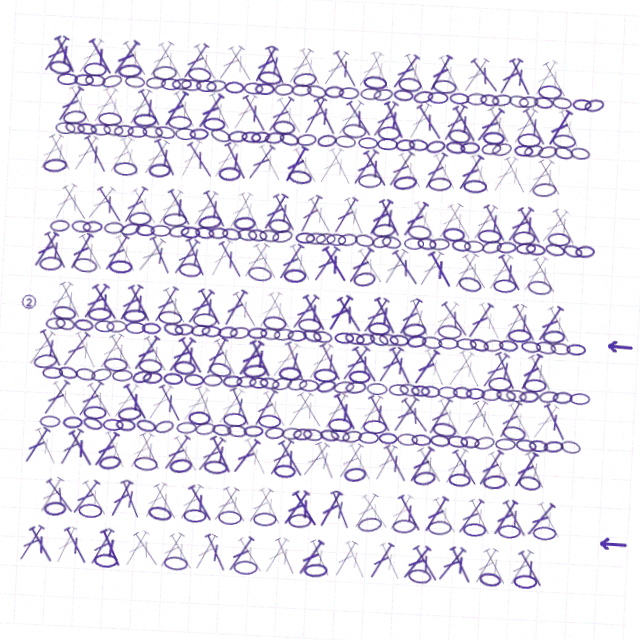chain: (280, 72, 306, 90), (52, 121, 78, 139), (385, 170, 411, 188), (192, 219, 218, 237), (455, 268, 481, 286), (35, 366, 61, 384), (367, 513, 393, 531), (350, 268, 375, 286), (210, 366, 235, 384), (105, 464, 130, 482), (420, 464, 445, 482), (280, 170, 305, 187), (367, 219, 392, 236), (402, 317, 427, 334), (245, 366, 270, 383), (122, 415, 147, 432), (437, 415, 462, 432), (507, 415, 532, 432), (525, 464, 550, 481), (157, 513, 182, 530), (89, 83, 112, 101), (200, 132, 223, 150), (438, 121, 462, 138), (176, 464, 200, 481), (351, 464, 375, 481), (105, 73, 130, 89), (140, 73, 165, 89), (175, 73, 200, 89), (245, 73, 270, 89), (420, 73, 445, 89), (35, 171, 60, 187), (525, 171, 550, 187), (70, 269, 95, 285), (245, 269, 270, 285), (525, 269, 550, 285), (52, 318, 77, 334), (490, 465, 515, 481), (402, 514, 427, 530), (420, 563, 445, 579), (115, 230, 137, 248), (319, 377, 341, 395), (267, 230, 290, 247), (93, 377, 116, 394), (479, 426, 502, 443), (36, 73, 60, 89), (123, 220, 147, 236), (263, 220, 287, 236), (36, 269, 60, 285), (491, 563, 515, 579), (87, 318, 112, 333), (122, 318, 147, 333), (482, 132, 504, 149), (514, 132, 536, 149), (367, 230, 389, 247), (477, 230, 499, 247), (302, 328, 324, 345), (369, 328, 391, 345), (134, 377, 156, 394), (274, 377, 296, 394), (159, 426, 181, 443), (336, 378, 359, 394), (351, 73, 375, 88), (386, 73, 410, 88), (123, 122, 147, 137), (333, 122, 357, 137), (543, 122, 567, 137), (351, 171, 375, 186), (421, 171, 445, 186), (158, 220, 182, 235), (228, 220, 252, 235), (403, 220, 427, 235), (158, 318, 182, 333), (263, 318, 287, 333), (438, 318, 462, 333), (141, 367, 165, 382), (141, 465, 165, 480), (211, 465, 235, 480), (53, 514, 77, 529), (298, 514, 322, 529), (438, 514, 462, 529), (176, 563, 200, 578), (316, 563, 340, 578), (294, 84, 316, 100), (361, 84, 383, 100), (401, 84, 423, 100), (572, 84, 594, 100), (269, 133, 291, 149), (416, 133, 438, 149), (528, 133, 550, 149), (544, 133, 566, 149), (558, 231, 580, 247), (469, 329, 491, 345), (87, 427, 109, 443), (347, 427, 369, 443), (263, 122, 286, 137), (141, 171, 164, 186), (211, 171, 234, 186), (176, 269, 199, 284), (543, 318, 566, 333), (176, 367, 199, 382), (71, 74, 95, 88), (526, 74, 550, 88), (88, 123, 112, 137), (158, 123, 182, 137), (508, 123, 532, 137), (106, 172, 130, 186), (456, 172, 480, 186), (473, 221, 497, 235), (106, 270, 130, 284), (491, 270, 515, 284), (193, 319, 217, 333), (298, 319, 322, 333), (508, 319, 532, 333), (106, 368, 130, 382), (316, 368, 340, 382), (491, 368, 515, 382), (526, 368, 550, 382), (88, 417, 112, 431), (228, 417, 252, 431), (333, 417, 357, 431), (368, 417, 392, 431), (88, 515, 112, 529), (193, 515, 217, 529), (228, 515, 252, 529), (263, 515, 287, 529), (473, 515, 497, 529), (543, 515, 567, 529), (106, 564, 130, 578), (246, 564, 270, 578), (526, 564, 550, 578), (145, 133, 167, 148), (307, 133, 329, 148), (164, 231, 186, 246), (540, 231, 562, 246), (163, 329, 185, 344), (536, 329, 558, 344), (60, 378, 82, 393), (348, 378, 370, 393), (402, 378, 424, 393), (200, 427, 222, 442), (335, 427, 357, 442), (193, 123, 216, 137), (368, 123, 391, 137), (473, 123, 496, 137), (438, 221, 461, 235), (508, 221, 531, 235), (543, 221, 566, 235), (281, 270, 304, 284), (368, 319, 391, 333), (281, 368, 304, 382), (351, 368, 374, 382), (193, 417, 216, 431), (263, 417, 286, 431), (281, 466, 304, 480), (456, 466, 479, 480), (508, 515, 531, 529), (194, 84, 215, 99), (480, 84, 501, 99), (55, 133, 76, 148), (241, 133, 262, 148), (255, 133, 276, 148), (472, 133, 493, 148), (333, 231, 354, 246), (350, 231, 371, 246), (55, 329, 76, 344), (191, 329, 212, 344), (274, 329, 295, 344), (379, 329, 400, 344), (407, 329, 428, 344), (290, 378, 311, 393), (542, 378, 563, 393), (141, 427, 162, 442), (566, 427, 587, 442), (301, 232, 323, 246), (422, 330, 444, 344), (484, 379, 506, 393), (509, 379, 531, 393), (521, 428, 543, 442), (468, 85, 489, 99), (497, 85, 518, 99), (507, 85, 528, 99), (522, 85, 543, 99), (67, 134, 88, 148), (104, 134, 125, 148), (218, 134, 239, 148), (287, 134, 308, 148), (386, 134, 407, 148), (436, 134, 457, 148), (561, 134, 582, 148), (45, 232, 66, 246), (190, 232, 211, 246), (217, 232, 238, 246), (311, 232, 332, 246), (377, 232, 398, 246), (521, 232, 542, 246), (74, 330, 95, 344), (218, 330, 239, 344), (230, 330, 251, 344), (313, 330, 334, 344), (345, 330, 366, 344), (356, 330, 377, 344), (484, 330, 505, 344), (551, 330, 572, 344), (78, 379, 99, 393), (145, 379, 166, 393), (262, 379, 283, 393), (499, 379, 520, 393), (522, 379, 543, 393), (217, 428, 238, 442), (232, 428, 253, 442), (270, 428, 291, 442), (287, 428, 308, 442), (298, 428, 319, 442), (308, 428, 329, 442), (325, 428, 346, 442), (534, 428, 555, 442), (549, 428, 570, 442), (326, 134, 348, 147), (262, 85, 283, 98), (349, 85, 370, 98), (455, 85, 476, 98), (133, 134, 154, 147), (399, 134, 420, 147), (99, 232, 120, 245), (243, 232, 264, 245), (425, 232, 446, 245), (447, 232, 468, 245), (492, 232, 513, 245), (499, 330, 520, 343), (115, 379, 136, 392), (225, 379, 246, 392), (239, 379, 260, 392), (453, 428, 474, 441), (113, 85, 133, 98), (134, 85, 154, 98), (160, 85, 180, 98), (280, 85, 300, 98), (313, 85, 333, 98), (382, 85, 402, 98), (541, 85, 561, 98), (94, 134, 114, 147), (180, 134, 200, 147), (451, 134, 471, 147), (67, 232, 87, 245), (78, 232, 98, 245), (204, 232, 224, 245), (233, 232, 253, 245), (255, 232, 275, 245), (413, 232, 433, 245), (512, 232, 532, 245), (571, 232, 591, 245), (46, 330, 66, 343), (107, 330, 127, 343), (175, 330, 195, 343), (248, 330, 268, 343), (261, 330, 281, 343), (390, 330, 410, 343), (522, 330, 542, 343), (206, 379, 226, 392), (456, 379, 476, 392), (556, 379, 576, 392), (68, 428, 88, 441), (121, 428, 141, 441), (182, 428, 202, 441), (249, 428, 269, 441), (436, 428, 456, 441), (466, 428, 486, 441), (45, 86, 66, 98), (73, 86, 94, 98), (169, 86, 190, 98), (184, 86, 205, 98), (327, 86, 348, 98), (416, 86, 437, 98), (81, 135, 102, 147), (166, 135, 187, 147), (368, 135, 389, 147), (146, 233, 167, 245), (439, 331, 460, 343), (457, 331, 478, 343), (45, 380, 66, 392), (370, 380, 391, 392), (573, 380, 594, 392), (45, 429, 66, 441), (108, 429, 129, 441), (364, 429, 385, 441), (403, 429, 424, 441), (501, 429, 522, 441), (62, 86, 82, 98), (149, 86, 169, 98), (213, 86, 233, 98), (232, 86, 252, 98), (243, 86, 263, 98), (438, 86, 458, 98), (561, 86, 581, 98), (46, 135, 66, 147), (118, 135, 138, 147), (232, 135, 252, 147), (349, 135, 369, 147), (505, 135, 525, 147), (131, 233, 151, 245), (176, 233, 196, 245), (291, 233, 311, 245), (322, 233, 342, 245), (400, 233, 420, 245), (460, 233, 480, 245), (95, 331, 115, 343), (126, 331, 146, 343), (142, 331, 162, 343), (202, 331, 222, 343), (288, 331, 308, 343), (335, 331, 355, 343), (567, 331, 587, 343), (166, 380, 186, 392), (187, 380, 207, 392), (252, 380, 272, 392), (302, 380, 322, 392), (392, 380, 412, 392), (414, 380, 434, 392), (424, 380, 444, 392), (441, 380, 461, 392), (469, 380, 489, 392), (384, 429, 404, 441), (417, 429, 437, 441)
double: (455, 48, 490, 87), (52, 489, 87, 528), (131, 244, 165, 284), (183, 391, 217, 431), (298, 489, 332, 529), (323, 96, 356, 137), (316, 243, 349, 284), (298, 390, 331, 431), (421, 439, 454, 480), (78, 195, 112, 234), (351, 244, 385, 283), (386, 244, 420, 283), (438, 293, 472, 332), (403, 391, 437, 430), (368, 489, 402, 528), (533, 489, 567, 528), (141, 538, 175, 577), (411, 538, 445, 577), (446, 538, 480, 577), (106, 48, 139, 88), (376, 48, 409, 88), (263, 97, 296, 137), (333, 97, 366, 137), (403, 97, 436, 137), (463, 97, 496, 137), (176, 146, 209, 186), (53, 195, 86, 235), (88, 195, 121, 235), (123, 195, 156, 235), (533, 195, 566, 235), (456, 244, 489, 284), (88, 293, 121, 333), (183, 293, 216, 333), (288, 293, 321, 333), (333, 293, 366, 333), (61, 342, 94, 382), (271, 342, 304, 382), (341, 342, 374, 382), (351, 342, 384, 382), (481, 342, 514, 382), (53, 391, 86, 431), (88, 391, 121, 431), (201, 440, 234, 480), (236, 440, 269, 480), (306, 440, 339, 480), (456, 440, 489, 480), (78, 489, 111, 529), (88, 489, 121, 529), (246, 538, 279, 578), (509, 96, 541, 137), (377, 145, 409, 186), (72, 243, 104, 284), (422, 243, 454, 284), (527, 341, 559, 382), (394, 390, 426, 431), (27, 439, 59, 480), (387, 439, 419, 480), (509, 488, 541, 529), (72, 48, 104, 88), (97, 48, 129, 88), (142, 48, 174, 88), (177, 48, 209, 88), (202, 48, 234, 88), (212, 48, 244, 88), (307, 48, 339, 88), (317, 48, 349, 88), (447, 48, 479, 88), (527, 48, 559, 88), (184, 97, 216, 137), (254, 97, 286, 137), (439, 97, 471, 137), (132, 146, 164, 186), (237, 146, 269, 186), (282, 146, 314, 186), (352, 146, 384, 186), (387, 146, 419, 186), (517, 146, 549, 186), (299, 195, 331, 235), (394, 195, 426, 235), (439, 195, 471, 235), (499, 195, 531, 235), (509, 195, 541, 235), (167, 244, 199, 284), (212, 244, 244, 284), (237, 244, 269, 284), (247, 244, 279, 284), (307, 244, 339, 284), (79, 293, 111, 333), (229, 293, 261, 333), (359, 293, 391, 333), (429, 293, 461, 333), (27, 342, 59, 382), (107, 342, 139, 382), (132, 342, 164, 382), (142, 342, 174, 382), (167, 342, 199, 382), (177, 342, 209, 382), (412, 342, 444, 382), (447, 342, 479, 382), (44, 391, 76, 431), (114, 391, 146, 431), (124, 391, 156, 431), (219, 391, 251, 431), (509, 391, 541, 431), (534, 391, 566, 431), (72, 440, 104, 480), (167, 440, 199, 480), (177, 440, 209, 480), (282, 440, 314, 480), (492, 440, 524, 480), (159, 489, 191, 529), (194, 489, 226, 529), (219, 489, 251, 529), (289, 489, 321, 529), (439, 489, 471, 529), (464, 489, 496, 529), (37, 538, 69, 578), (177, 538, 209, 578), (422, 538, 454, 578), (527, 538, 559, 578), (27, 47, 58, 88), (272, 47, 303, 88), (342, 47, 373, 88), (422, 47, 453, 88), (79, 96, 110, 137), (89, 96, 120, 137), (124, 96, 155, 137), (159, 96, 190, 137), (219, 96, 250, 137), (359, 96, 390, 137), (474, 96, 505, 137), (534, 96, 565, 137), (37, 145, 68, 186), (62, 145, 93, 186), (202, 145, 233, 186), (247, 145, 278, 186), (342, 145, 373, 186), (422, 145, 453, 186), (447, 145, 478, 186), (482, 145, 513, 186), (159, 194, 190, 235), (184, 194, 215, 235), (194, 194, 225, 235), (254, 194, 285, 235), (264, 194, 295, 235), (464, 194, 495, 235), (544, 194, 575, 235), (27, 243, 58, 284), (272, 243, 303, 284), (342, 243, 373, 284), (377, 243, 408, 284), (482, 243, 513, 284), (492, 243, 523, 284), (517, 243, 548, 284), (44, 292, 75, 333), (124, 292, 155, 333), (194, 292, 225, 333), (264, 292, 295, 333), (324, 292, 355, 333), (509, 292, 540, 333), (534, 292, 565, 333), (544, 292, 575, 333), (212, 341, 243, 382), (307, 341, 338, 382), (377, 341, 408, 382), (79, 390, 110, 431), (149, 390, 180, 431), (289, 390, 320, 431), (369, 390, 400, 431), (429, 390, 460, 431), (439, 390, 470, 431), (474, 390, 505, 431), (342, 439, 373, 480), (352, 439, 383, 480), (482, 439, 513, 480), (517, 439, 548, 480), (229, 488, 260, 529), (254, 488, 285, 529), (404, 488, 435, 529), (499, 488, 530, 529), (544, 488, 575, 529), (27, 537, 58, 578), (72, 537, 103, 578), (492, 537, 523, 578), (273, 145, 303, 187), (108, 537, 138, 579), (62, 48, 93, 88), (167, 48, 198, 88), (44, 97, 75, 137), (229, 97, 260, 137), (527, 146, 558, 186), (149, 195, 180, 235), (527, 244, 558, 284), (159, 293, 190, 333), (299, 293, 330, 333), (464, 293, 495, 333), (237, 342, 268, 382), (264, 391, 295, 431), (97, 440, 128, 480), (237, 538, 268, 578), (307, 538, 338, 578), (133, 47, 163, 88), (283, 47, 313, 88), (483, 47, 513, 88), (493, 47, 523, 88), (518, 47, 548, 88), (55, 96, 85, 137), (150, 96, 180, 137), (195, 96, 225, 137), (300, 96, 330, 137), (500, 96, 530, 137), (28, 145, 58, 186), (73, 145, 103, 186), (98, 145, 128, 186), (213, 145, 243, 186), (308, 145, 338, 186), (318, 145, 348, 186), (493, 145, 523, 186), (220, 194, 250, 235), (325, 194, 355, 235), (360, 194, 390, 235), (370, 194, 400, 235), (405, 194, 435, 235), (430, 194, 460, 235), (475, 194, 505, 235), (38, 243, 68, 284), (98, 243, 128, 284), (108, 243, 138, 284), (283, 243, 313, 284), (413, 243, 443, 284), (448, 243, 478, 284), (55, 292, 85, 333), (115, 292, 145, 333), (150, 292, 180, 333), (370, 292, 400, 333), (475, 292, 505, 333), (38, 341, 68, 382), (73, 341, 103, 382), (98, 341, 128, 382), (248, 341, 278, 382), (318, 341, 348, 382), (388, 341, 418, 382), (160, 390, 190, 431), (325, 390, 355, 431), (335, 390, 365, 431), (360, 390, 390, 431), (465, 390, 495, 431), (545, 390, 575, 431), (38, 439, 68, 480), (133, 439, 163, 480), (213, 439, 243, 480), (248, 439, 278, 480), (273, 439, 303, 480), (413, 439, 443, 480), (448, 439, 478, 480), (45, 488, 75, 529), (185, 488, 215, 529), (265, 488, 295, 529), (360, 488, 390, 529), (395, 488, 425, 529), (430, 488, 460, 529), (475, 488, 505, 529), (98, 537, 128, 578), (133, 537, 163, 578), (168, 537, 198, 578), (273, 537, 303, 578), (378, 537, 408, 578), (458, 537, 488, 578), (483, 537, 513, 578), (518, 537, 548, 578), (108, 145, 137, 187), (283, 341, 312, 383), (318, 439, 347, 481), (38, 47, 67, 88), (238, 47, 267, 88), (388, 47, 417, 88), (413, 47, 442, 88), (115, 96, 144, 137), (290, 96, 319, 137), (370, 96, 399, 137), (395, 96, 424, 137), (430, 96, 459, 137), (545, 96, 574, 137), (143, 145, 172, 186), (413, 145, 442, 186), (45, 194, 74, 235), (115, 194, 144, 235), (230, 194, 259, 235), (335, 194, 364, 235), (63, 243, 92, 284), (143, 243, 172, 284), (220, 292, 249, 333), (255, 292, 284, 333), (395, 292, 424, 333), (500, 292, 529, 333), (423, 341, 452, 382), (458, 341, 487, 382), (255, 390, 284, 431), (500, 390, 529, 431), (63, 439, 92, 480), (108, 439, 137, 480), (143, 439, 172, 480), (378, 439, 407, 480), (528, 439, 557, 480), (150, 488, 179, 529), (325, 488, 354, 529), (203, 537, 232, 578), (213, 537, 242, 578), (283, 537, 312, 578), (318, 537, 347, 578), (343, 537, 372, 578), (353, 537, 382, 578), (388, 537, 417, 578), (249, 47, 277, 88), (354, 47, 382, 88), (169, 145, 197, 186), (459, 145, 487, 186), (291, 194, 319, 235), (179, 243, 207, 284), (204, 243, 232, 284), (406, 292, 434, 333), (204, 341, 232, 382), (494, 341, 522, 382), (519, 341, 547, 382), (196, 390, 224, 431), (231, 390, 259, 431), (116, 488, 144, 529), (126, 488, 154, 529), (336, 488, 364, 529), (64, 537, 91, 578)
noise: (19, 307, 38, 326), (608, 523, 638, 535), (606, 326, 634, 338)
